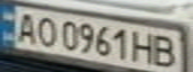0: (57, 18, 81, 52)
1: (109, 26, 130, 61)
6: (93, 24, 112, 58)
9: (75, 20, 96, 55)
A: (9, 10, 42, 44)
B: (151, 33, 181, 69)
H: (130, 29, 157, 65)
O: (30, 15, 60, 47)
